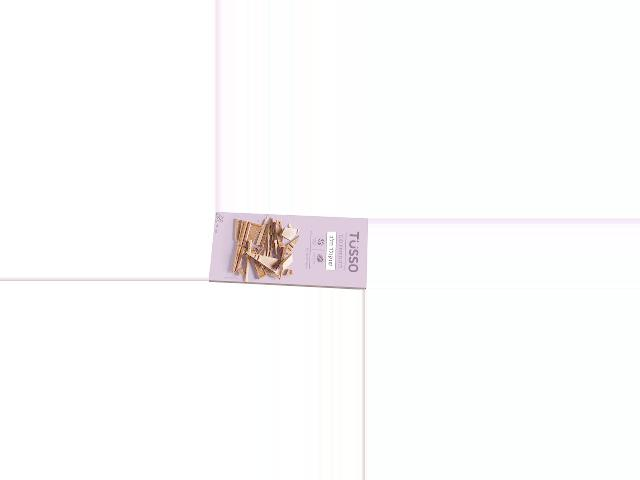chocolate: (208, 216, 364, 285)
